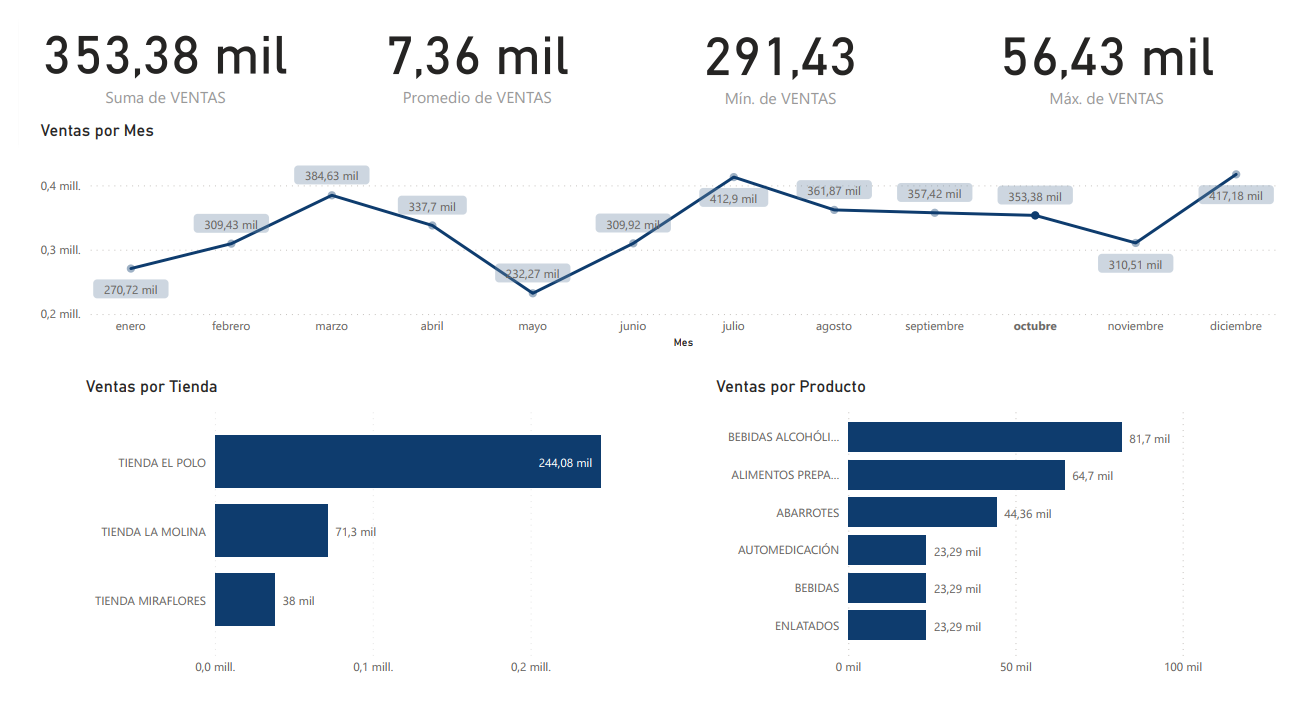

The dashboard page shown, as its layout file describes it:
{"tool":"powerbi","page":{"name":"Página 1","canvas":[1280,720],"ordinal":0},"visuals":[{"type":"card","fields":{"Values":["Sum(TIENDAS.VENTAS)"]},"box":[0,0,297.8,148.2],"z":0},{"type":"card","fields":{"Values":["Avg(TIENDAS.VENTAS)"]},"box":[316.4,0,297.5,149.4],"z":1},{"type":"card","fields":{"Values":["Min(TIENDAS.VENTAS)"]},"box":[623.3,0,298.9,150.8],"z":2},{"type":"card","fields":{"Values":["Max(TIENDAS.VENTAS)"]},"box":[954.5,0,297.5,150.8],"z":3},{"type":"barChart","title":"Ventas por Tienda","fields":{"Category":["Maestra de tiendas.NOMBRE DE TIENDA"],"Y":["Sum(TIENDAS.VENTAS)"]},"box":[62.7,395.6,560.8,313.6],"z":4},{"type":"barChart","title":"Ventas por Producto","fields":{"Category":["TIENDAS.TIPO DE PRODUCTOS"],"Y":["Medidas.Total de ventas"]},"box":[701.9,395.6,502.9,313.6],"z":5},{"type":"lineChart","title":"Ventas por Mes","fields":{"Category":["TIENDAS.FECHA.Variación.Jerarquía de fechas.Año","TIENDAS.FECHA.Variación.Jerarquía de fechas.Mes"],"Y":["Medidas.Total de ventas"]},"box":[16.9,137.5,1262.7,235.2],"z":6}]}

Visuals, with their boxes in screenshot pixels (x1, y1, x2, y2), scaled from the page's 1280x720 canvas onto the 1291x713 screenshot:
card - Sum(TIENDAS.VENTAS): locate(0, 0, 300, 147)
card - Avg(TIENDAS.VENTAS): locate(319, 0, 619, 148)
card - Min(TIENDAS.VENTAS): locate(629, 0, 930, 149)
card - Max(TIENDAS.VENTAS): locate(963, 0, 1263, 149)
"Ventas por Tienda" barChart: locate(63, 392, 629, 702)
"Ventas por Producto" barChart: locate(708, 392, 1215, 702)
"Ventas por Mes" lineChart: locate(17, 136, 1290, 369)
